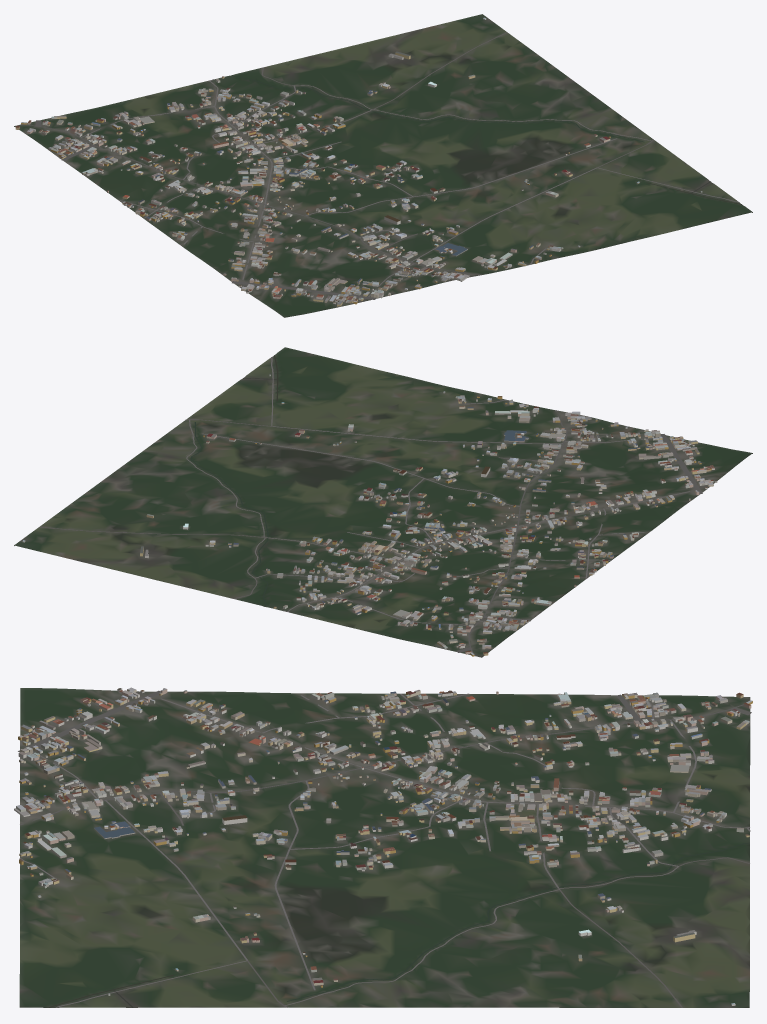
3 views of the same model, one above another, from view 1: azimuth 30°, elevation 25°; view 2: azimuth 150°, elevation 25°; view 3: azimuth 270°, elevation 25° (orthographic). The views are drawn at different scales.
Visible parts, largest first — view 1: ground, buildings, roads, water; view 2: ground, buildings, roads; view 3: ground, buildings, roads, water.
Part boxes in pixels (box(x1,y1,x2,y2)): ground: box(14, 14, 752, 317); buildings: box(15, 17, 702, 306); roads: box(20, 32, 739, 299); water: box(231, 75, 741, 204); ground: box(14, 347, 752, 657); buildings: box(22, 374, 717, 656); roads: box(39, 357, 702, 656); ground: box(19, 688, 750, 1007); buildings: box(14, 687, 752, 1005); roads: box(18, 690, 751, 1007); water: box(48, 842, 749, 1007).
Size of the model in its own units: 1407 by 29.72 by 1418.
